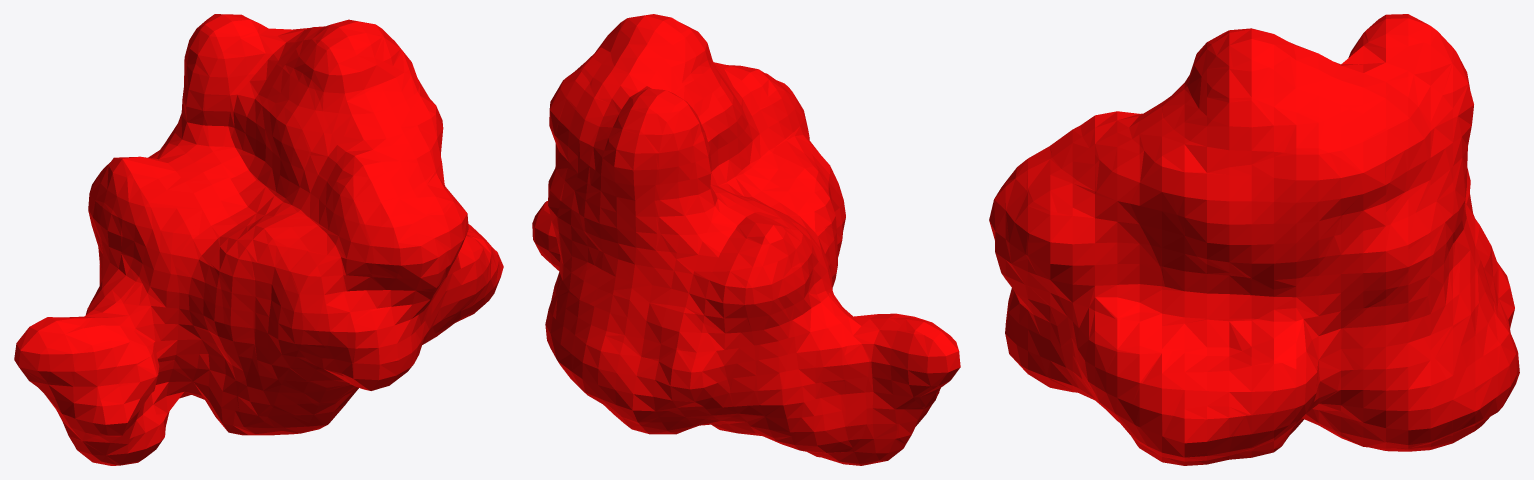
File: leuC_coarse.dae
3 renders of one model, left to right at view 1: azimuth 30°, elevation 25°; view 2: azimuth 150°, elevation 25°; view 3: azimuth 270°, elevation 25°, orthographic. The views are drawn at different scales.
Parts seen in each view (by area): view 1: leuC; view 2: leuC; view 3: leuC.
Part boxes in pixels (left/top/right/bottom): leuC: left=14, top=14, right=503, bottom=465; leuC: left=532, top=14, right=960, bottom=465; leuC: left=989, top=14, right=1519, bottom=465.
Size of the model in its own units: 79.13 by 66.1 by 62.76.
